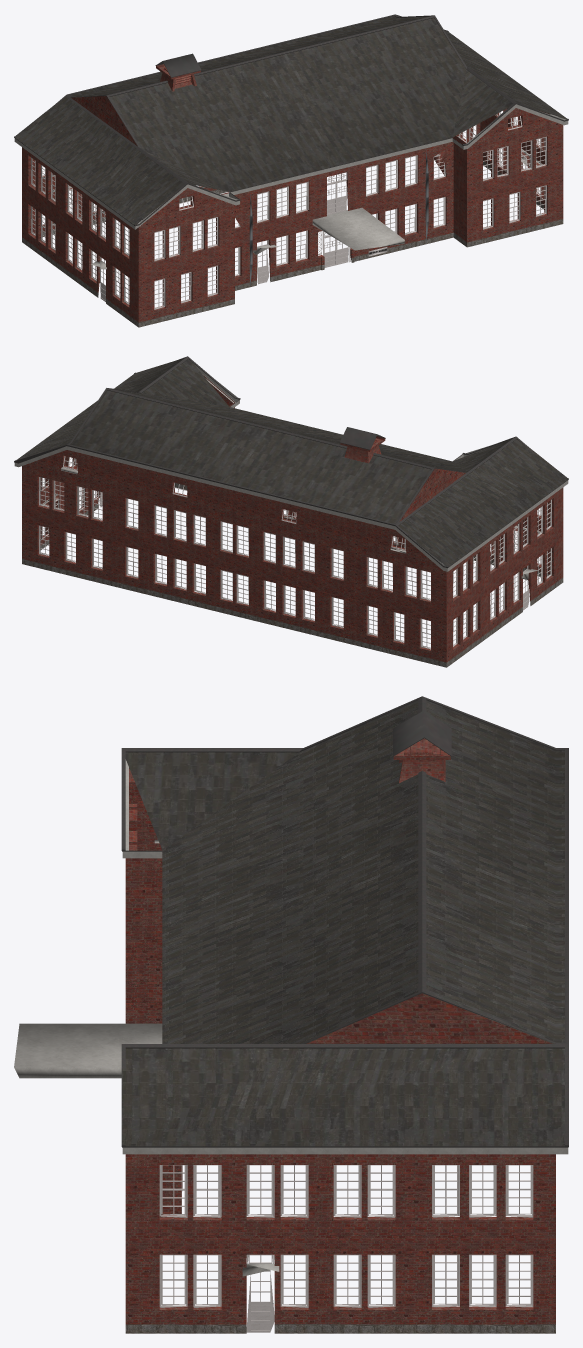
File: hosp-s2.glb
The picture shows the model from 3 angles, top to bottom: view 1: azimuth 30°, elevation 25°; view 2: azimuth 150°, elevation 25°; view 3: azimuth 270°, elevation 25°; orthographic projection. The views are drawn at different scales.
Visible parts, largest first — view 1: JejungwonHospital_WallRoof_JejungwonHospital_WallRoof_0, JejungwonHospital_Etc_JejungwonHospital_Etc_0; view 2: JejungwonHospital_WallRoof_JejungwonHospital_WallRoof_0, JejungwonHospital_Etc_JejungwonHospital_Etc_0; view 3: JejungwonHospital_WallRoof_JejungwonHospital_WallRoof_0, JejungwonHospital_Etc_JejungwonHospital_Etc_0.
Boxes of the visible parts, <box> form: JejungwonHospital_WallRoof_JejungwonHospital_WallRoof_0: <box>15,16,566,327</box>; JejungwonHospital_Etc_JejungwonHospital_Etc_0: <box>14,14,568,309</box>; JejungwonHospital_WallRoof_JejungwonHospital_WallRoof_0: <box>17,359,567,667</box>; JejungwonHospital_Etc_JejungwonHospital_Etc_0: <box>14,356,568,648</box>; JejungwonHospital_WallRoof_JejungwonHospital_WallRoof_0: <box>121,700,564,1333</box>; JejungwonHospital_Etc_JejungwonHospital_Etc_0: <box>14,696,568,1332</box>.
Size of the model in its own units: 30.94 by 12.27 by 18.39.
2 materials, 2 textured.
